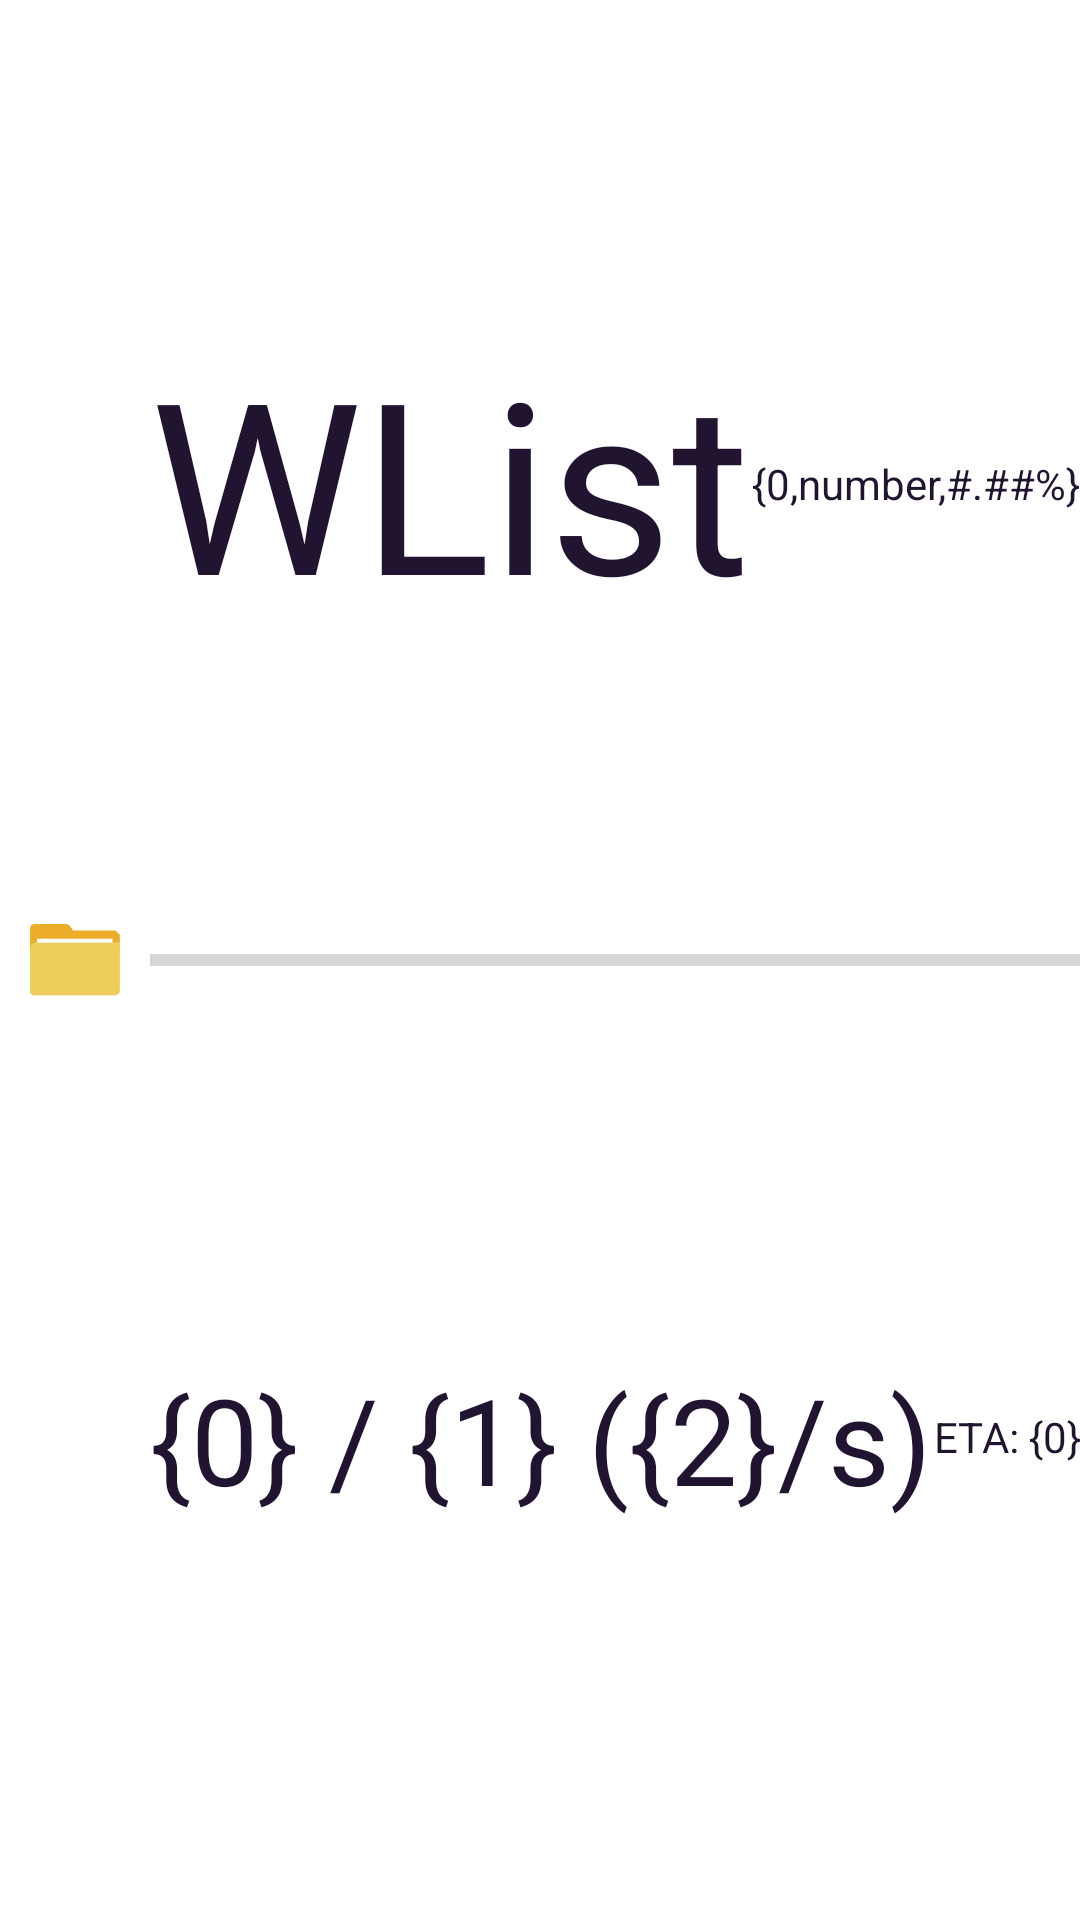

Locate icon controls on the screen. Image size 1080px×1920px, boxes as rect(x1, y1, x2, y2).
page file directory: rect(30, 924, 120, 996)
